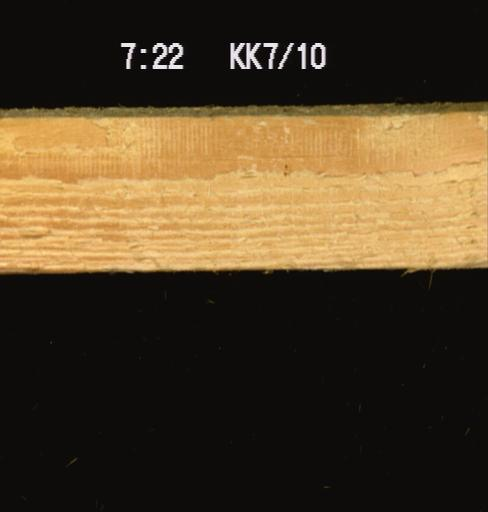split: (224, 142, 368, 160)
